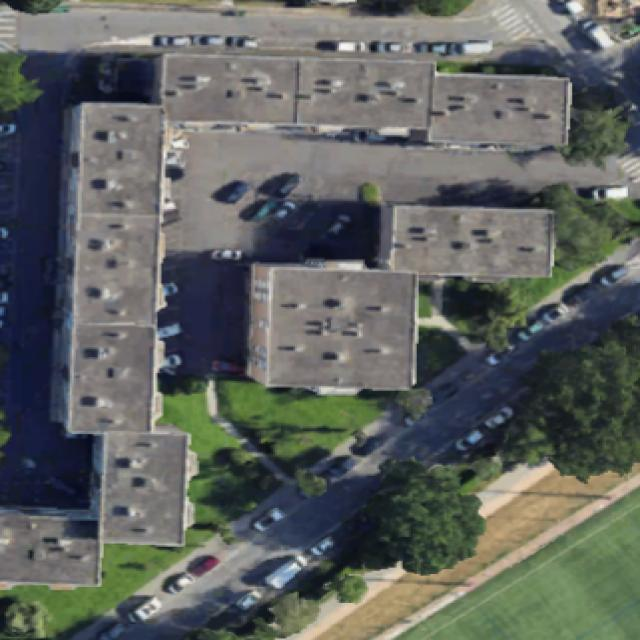immeuble: (243, 254, 420, 397), (53, 210, 161, 328), (377, 204, 552, 276), (59, 102, 164, 217), (102, 423, 198, 545), (52, 323, 154, 435), (295, 58, 440, 130), (161, 55, 300, 125), (431, 74, 570, 143), (0, 510, 99, 584)
